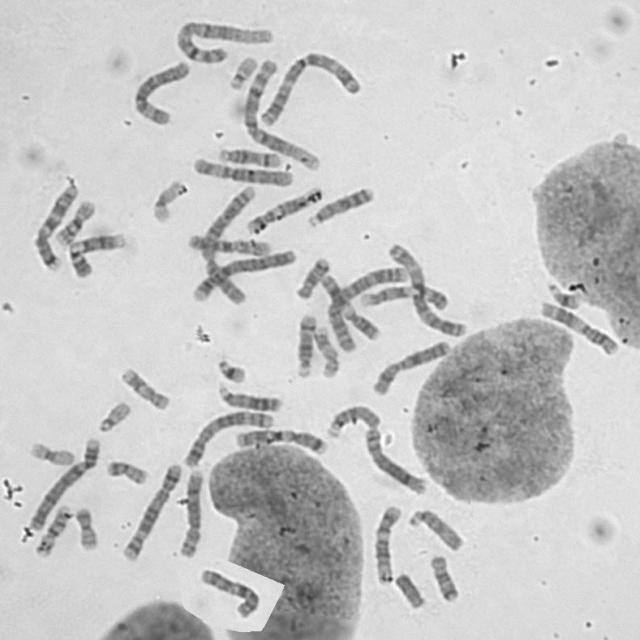A1: (238, 52, 324, 171), (170, 14, 276, 65)
A2: (193, 179, 259, 305), (320, 261, 408, 350)
A3: (253, 46, 363, 127), (383, 236, 469, 338)
B4: (23, 432, 102, 532), (186, 243, 300, 303)
B5: (116, 456, 183, 563), (178, 404, 276, 469)
C10: (199, 566, 262, 619), (182, 228, 273, 257)
C11: (534, 296, 621, 357), (314, 269, 383, 341)
C12: (241, 182, 324, 235), (368, 500, 403, 585)
C6: (127, 54, 192, 126), (187, 151, 295, 188)
C7: (27, 176, 80, 272), (230, 422, 330, 456)
C8: (358, 422, 430, 496), (173, 461, 206, 559)
C9: (62, 226, 129, 278), (355, 279, 453, 311)
D13: (302, 180, 375, 228), (212, 377, 284, 413)
D14: (290, 308, 318, 379), (213, 141, 284, 168)
D15: (403, 503, 467, 552), (321, 399, 383, 440)
E16: (50, 194, 98, 247), (30, 499, 72, 558)
E17: (115, 361, 172, 411), (309, 320, 342, 379)
E18: (425, 548, 462, 604), (290, 251, 332, 300)
F19: (146, 174, 186, 225), (24, 436, 77, 466)
F20: (69, 500, 100, 551), (101, 454, 150, 486)
G21: (542, 276, 583, 310), (212, 352, 248, 385)
G22: (92, 395, 132, 433), (223, 50, 260, 90)
X: (367, 334, 452, 397)
Y: (388, 566, 428, 610)
